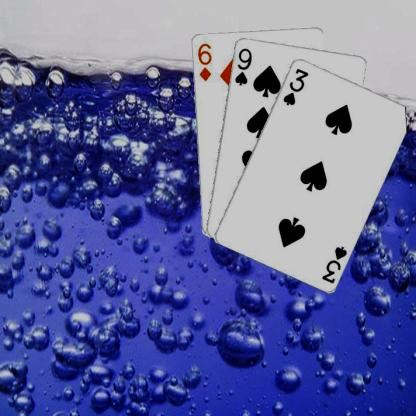3S: (319, 243, 348, 285), (280, 66, 310, 106)
6D: (195, 40, 212, 82)
9S: (232, 45, 253, 86)
